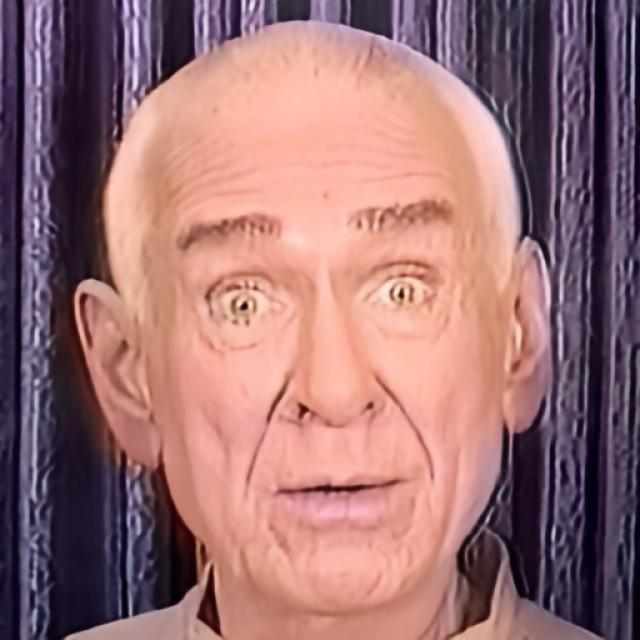surprise: (160, 71, 507, 615)
